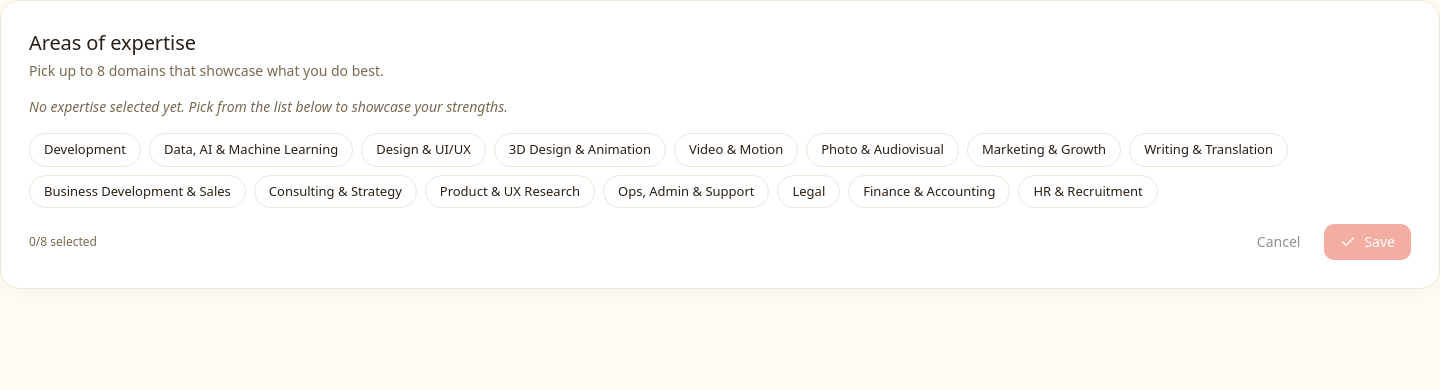
Test case: ExpertiseEditor › maps a 400 response to the validation error message
Click the button "Development" at (85, 150), box 29,133 -> 141,166
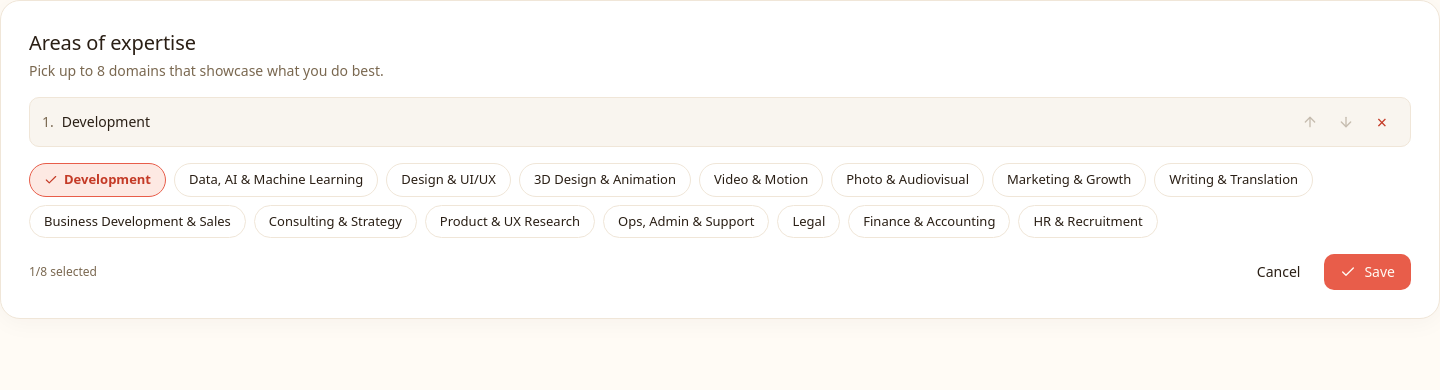
Click the button "Save" at (1368, 272), box 1324,254 -> 1411,290
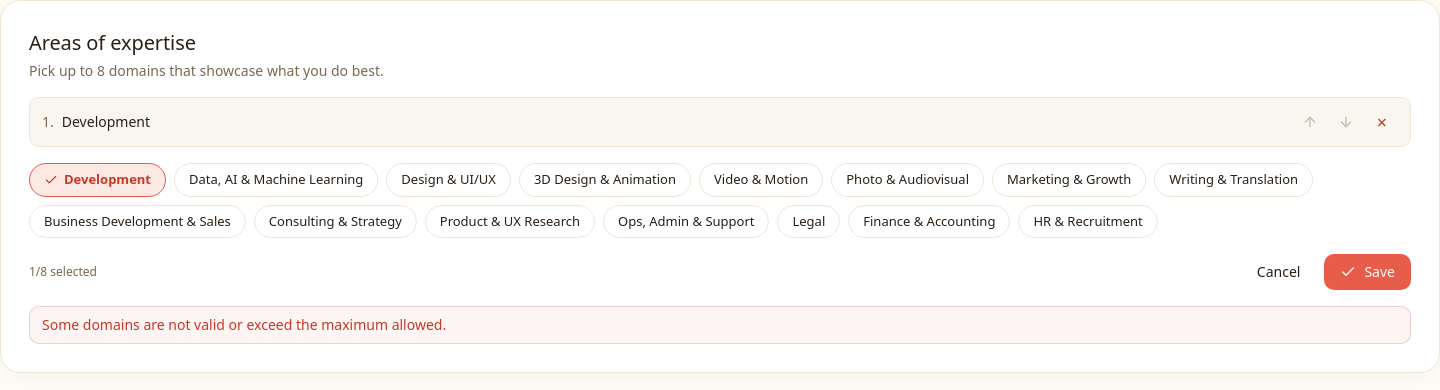
Expected: the message reads "Some domains are not valid or exceed the maximum allowed.", 42,315 -> 446,334
